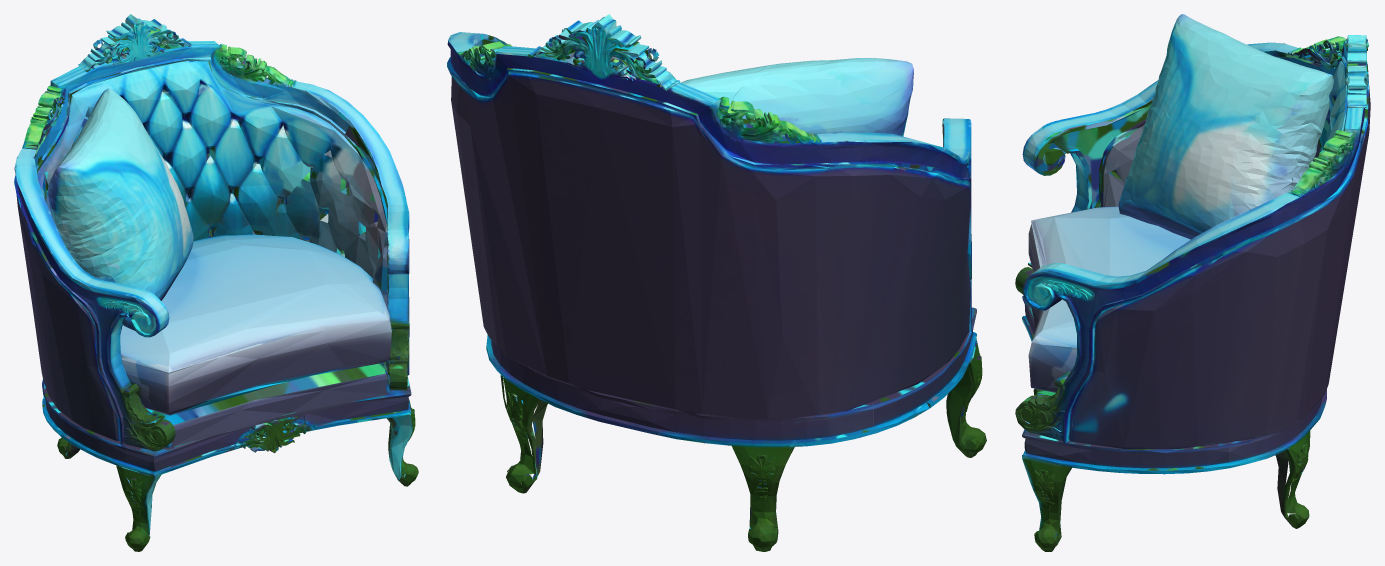
The model's file is edited_mesh.glb.
3 renders of one model, left to right at view 1: azimuth 30°, elevation 25°; view 2: azimuth 150°, elevation 25°; view 3: azimuth 270°, elevation 25°, orthographic. The views are drawn at different scales.
Visible parts, largest first — view 1: solid_001_wire; view 2: solid_001_wire; view 3: solid_001_wire.
Part boxes in pixels (x1,y1,x2,y2): solid_001_wire: (14, 14, 418, 551); solid_001_wire: (447, 14, 986, 551); solid_001_wire: (1015, 14, 1370, 551).
Bounding box in the file's own units: 1.26 × 1.37 × 0.9974.
Materials: 1 (1 with a texture image).
